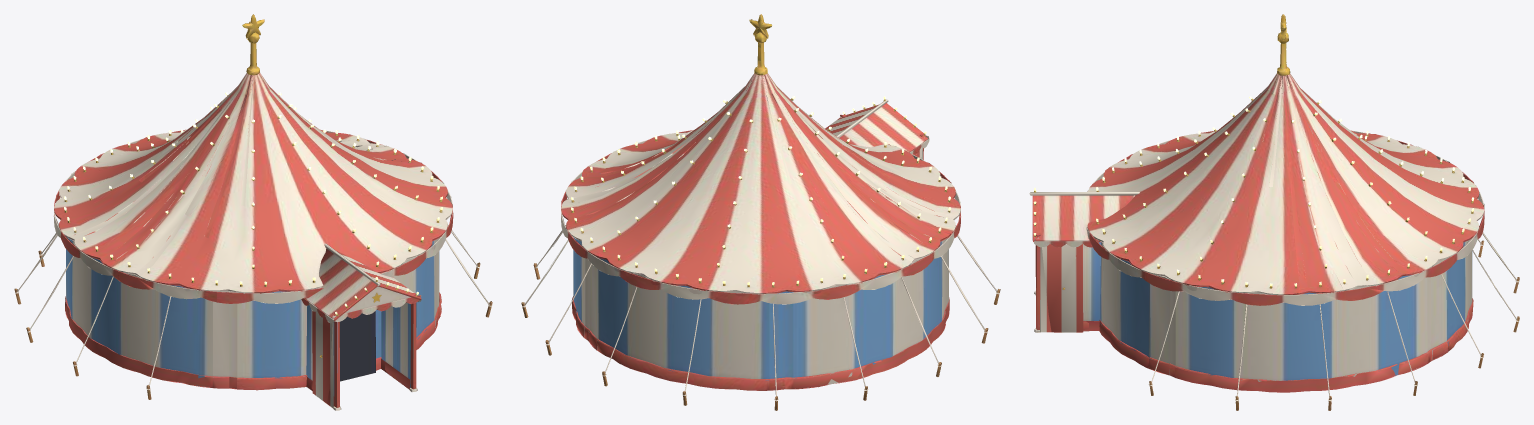
File: carpa_circo.glb
The picture shows the model from 3 angles, left to right: view 1: azimuth 30°, elevation 25°; view 2: azimuth 150°, elevation 25°; view 3: azimuth 270°, elevation 25°; orthographic projection.
Parts seen in each view (by area): view 1: circus-tent_body; view 2: circus-tent_body; view 3: circus-tent_body.
Part boxes in pixels (box(x1,y1,x2,y2)): circus-tent_body: box(14, 14, 492, 410); circus-tent_body: box(521, 14, 1000, 410); circus-tent_body: box(1029, 14, 1519, 410).
Bounding box in the file's own units: 10.12 × 7.06 × 10.51.
Materials: 4 (3 with a texture image).
